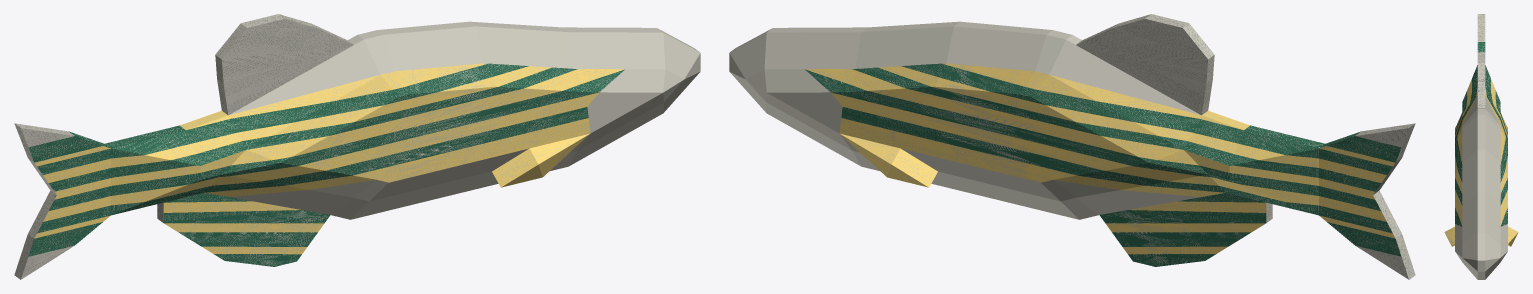
The model's file is danio.obj.
3 views of the same model, side by side, from view 1: azimuth 30°, elevation 25°; view 2: azimuth 150°, elevation 25°; view 3: azimuth 270°, elevation 25° (orthographic). The views are drawn at different scales.
Parts seen in each view (by area): view 1: SketchUp; view 2: SketchUp; view 3: SketchUp.
Part boxes in pixels (left/top/right/bottom): SketchUp: left=14, top=14, right=700, bottom=279; SketchUp: left=729, top=14, right=1415, bottom=279; SketchUp: left=1444, top=14, right=1518, bottom=279.
Bounding box in the file's own units: 7.53 × 2.6 × 1.22.
